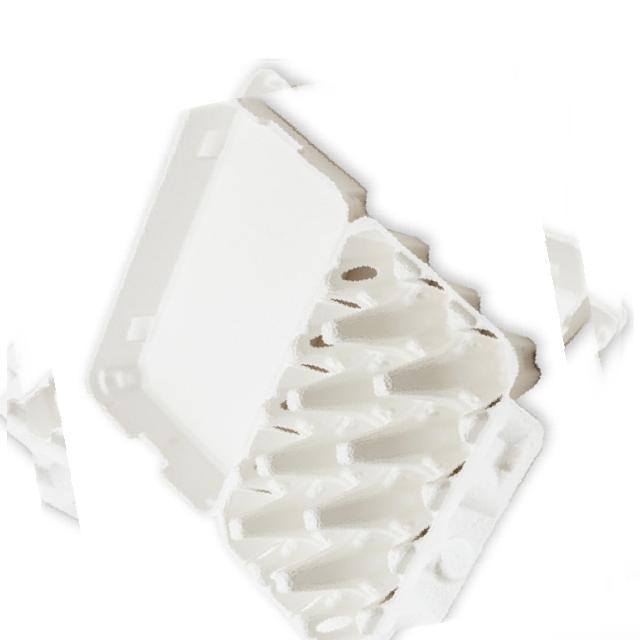biodegradable: (7, 57, 631, 640)
